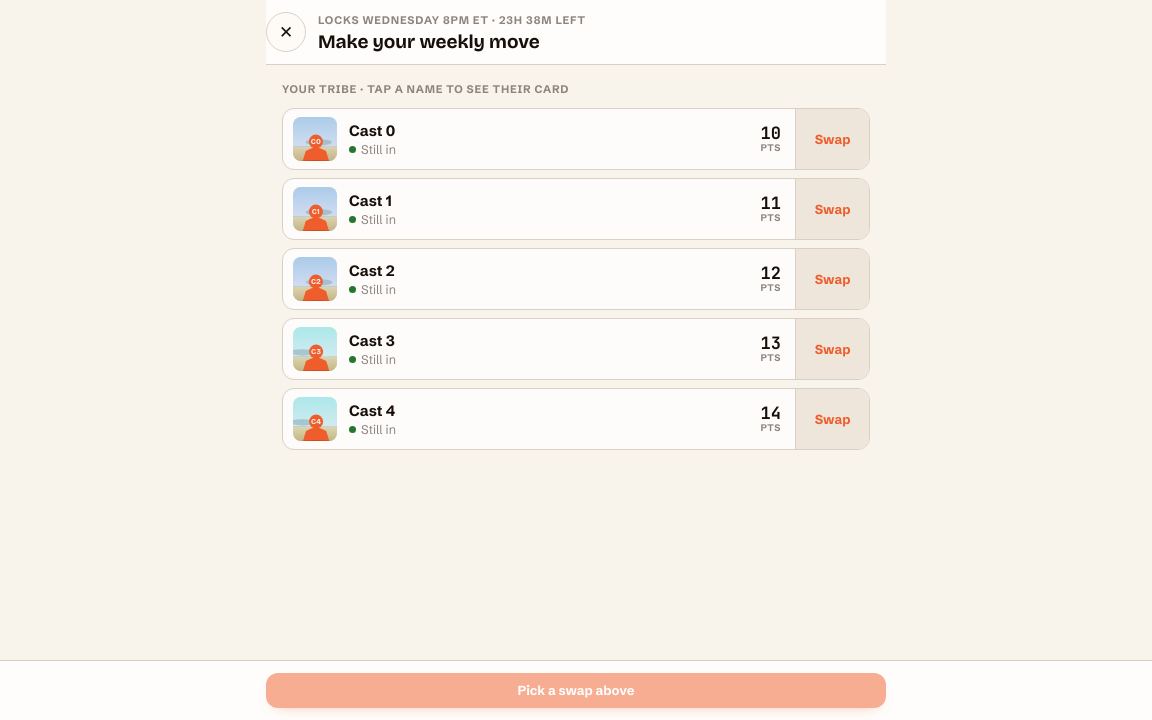
it: SwapSheet › filters the replacement pool by search
Click the 1st button "Swap" at (832, 139), box top-left (795, 109), bottom-right (869, 169)
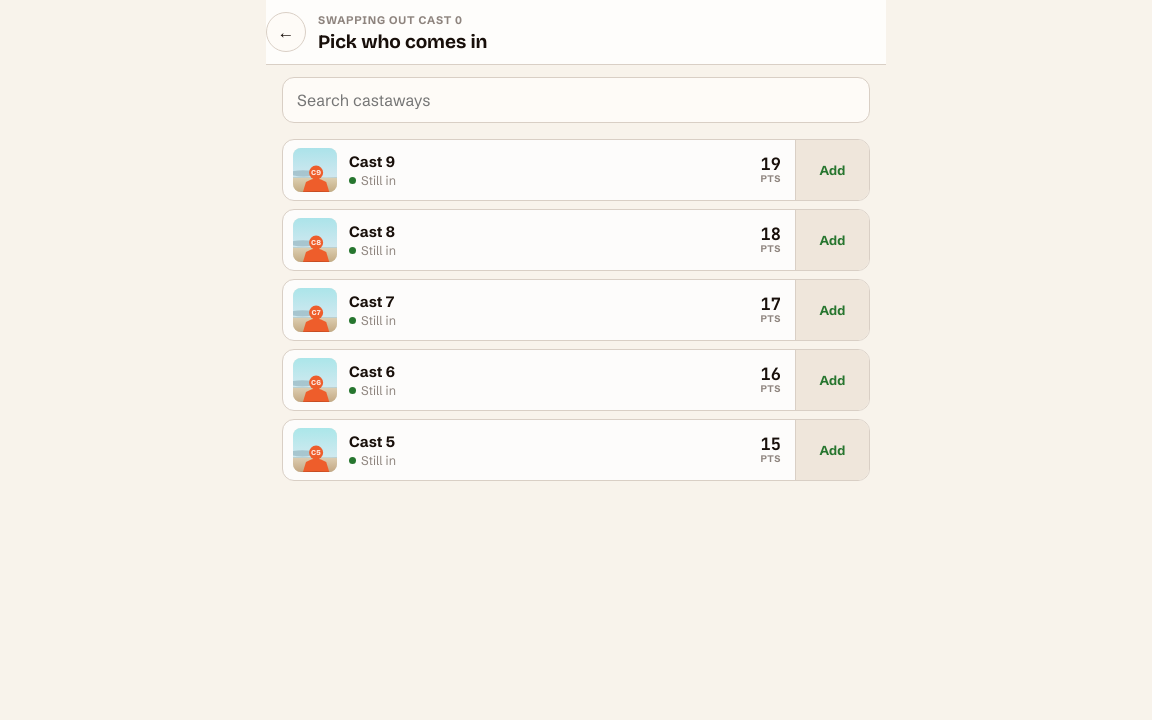
Type "Cast 7" into the search field labelled "Search castaways" at (576, 100), box top-left (282, 77), bottom-right (870, 123)
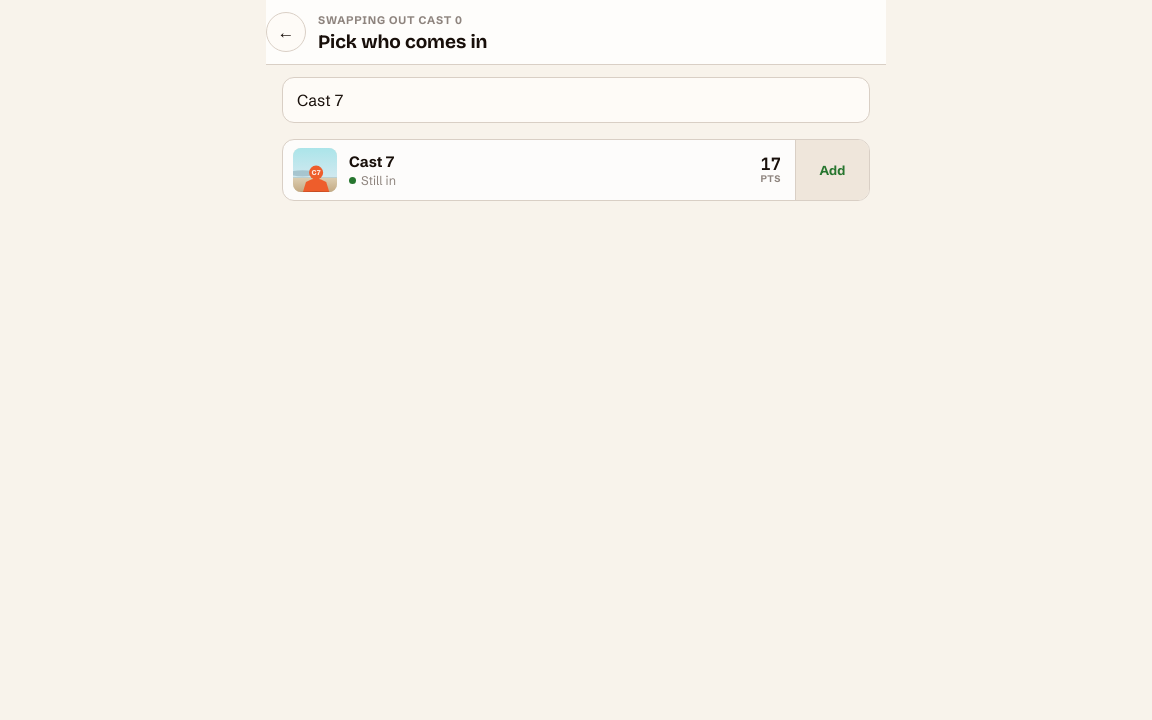
Now the text "Cast 7" is shown, box top-left (349, 152), bottom-right (394, 171)
Now the button "Cast 9" is gone
